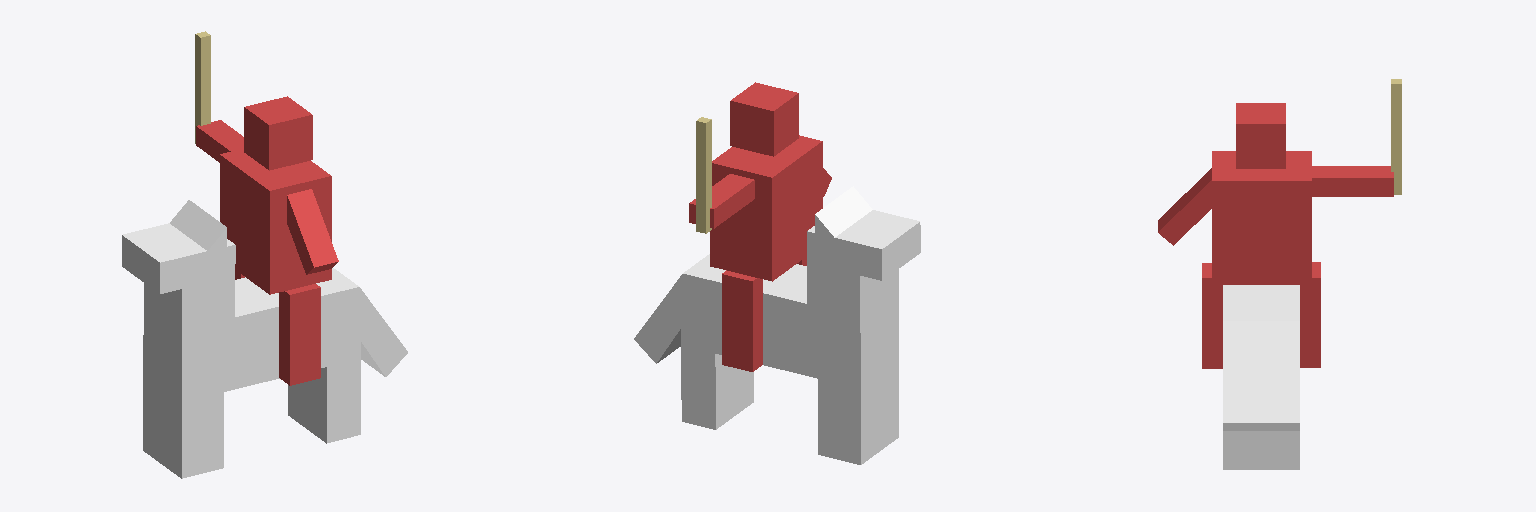
The model's file is BA_Knight_01.obj.
The picture shows the model from 3 angles: view 1: azimuth 30°, elevation 25°; view 2: azimuth 150°, elevation 25°; view 3: azimuth 270°, elevation 25°; orthographic projection.
Visible parts, largest first — view 1: Line002, Box001, Box008; view 2: Line002, Box001, Box008; view 3: Box001, Line002, Box008.
Boxes of the visible parts, x1,y1,x2,y2 form: Line002: [122, 200, 407, 478]; Box001: [196, 96, 338, 385]; Box008: [195, 31, 210, 143]; Line002: [634, 186, 920, 464]; Box001: [689, 82, 831, 371]; Box008: [696, 117, 711, 233]; Box001: [1158, 103, 1393, 368]; Line002: [1223, 285, 1299, 469]; Box008: [1391, 79, 1401, 194].
Bounding box in the file's own units: 200 × 273 × 171.